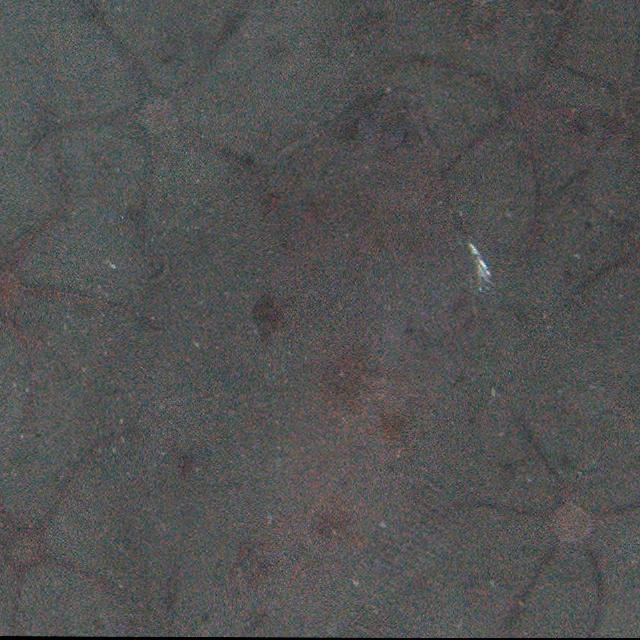flatfish: (193, 91, 462, 616)
